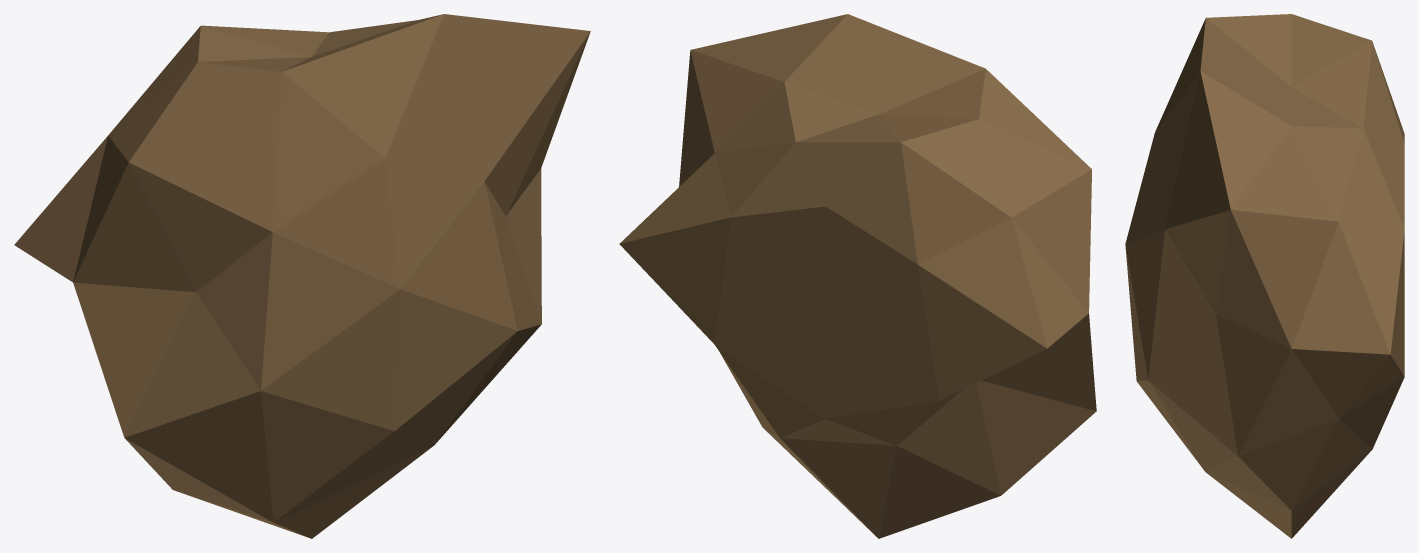
File: rock_b.glb
3 renders of one model, left to right at view 1: azimuth 30°, elevation 25°; view 2: azimuth 150°, elevation 25°; view 3: azimuth 270°, elevation 25°, orthographic. The views are drawn at different scales.
Parts seen in each view (by area): view 1: RockBMesh; view 2: RockBMesh; view 3: RockBMesh.
Boxes of the visible parts, left/top/right/bottom form: RockBMesh: left=14, top=14, right=590, bottom=538; RockBMesh: left=619, top=14, right=1096, bottom=538; RockBMesh: left=1125, top=14, right=1404, bottom=538.
Bounding box in the file's own units: 1.9 × 2 × 1.
